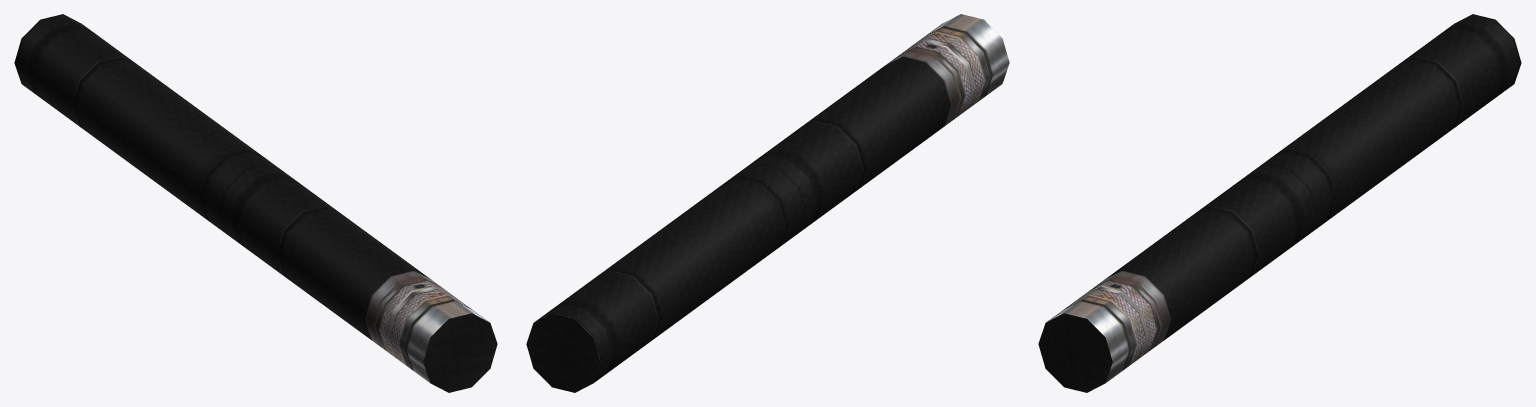
The model's file is SM_Hose4.fbx.
The picture shows the model from 3 angles, left to right: view 1: azimuth 30°, elevation 25°; view 2: azimuth 150°, elevation 25°; view 3: azimuth 330°, elevation 25°; orthographic projection.
Parts seen in each view (by area): view 1: SM_Hose4_LOD0; view 2: SM_Hose4_LOD0; view 3: SM_Hose4_LOD0.
Part boxes in pixels (<box>): SM_Hose4_LOD0: <box>14,14,497,392</box>; SM_Hose4_LOD0: <box>526,14,1009,392</box>; SM_Hose4_LOD0: <box>1038,14,1521,392</box>.
Bounding box in the file's own units: 10.5 × 100 × 10.
Materials: 1 (1 with a texture image).
